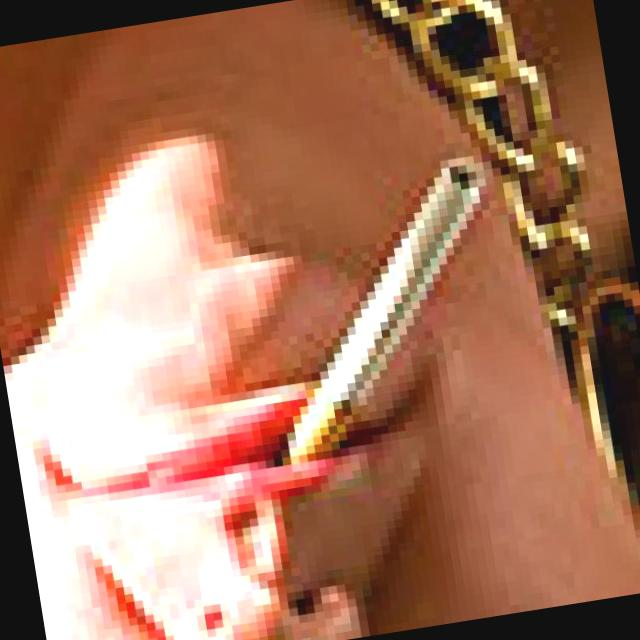cigarette: (251, 170, 527, 480)
